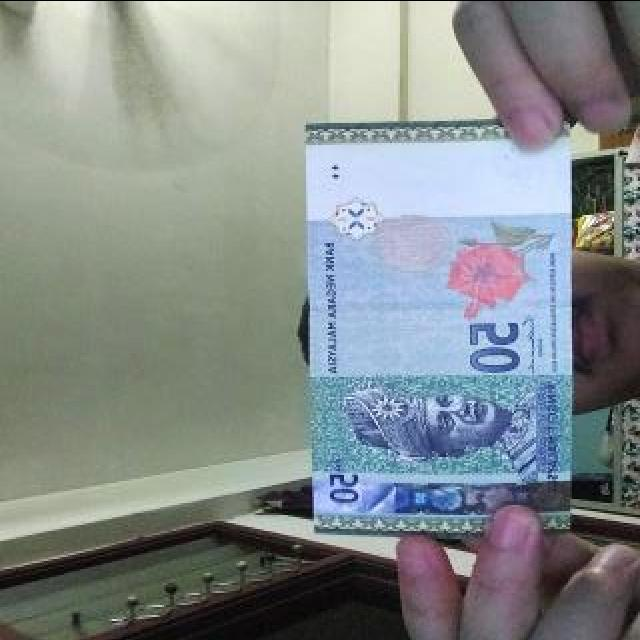50 Ringgit: (300, 117, 570, 544)
